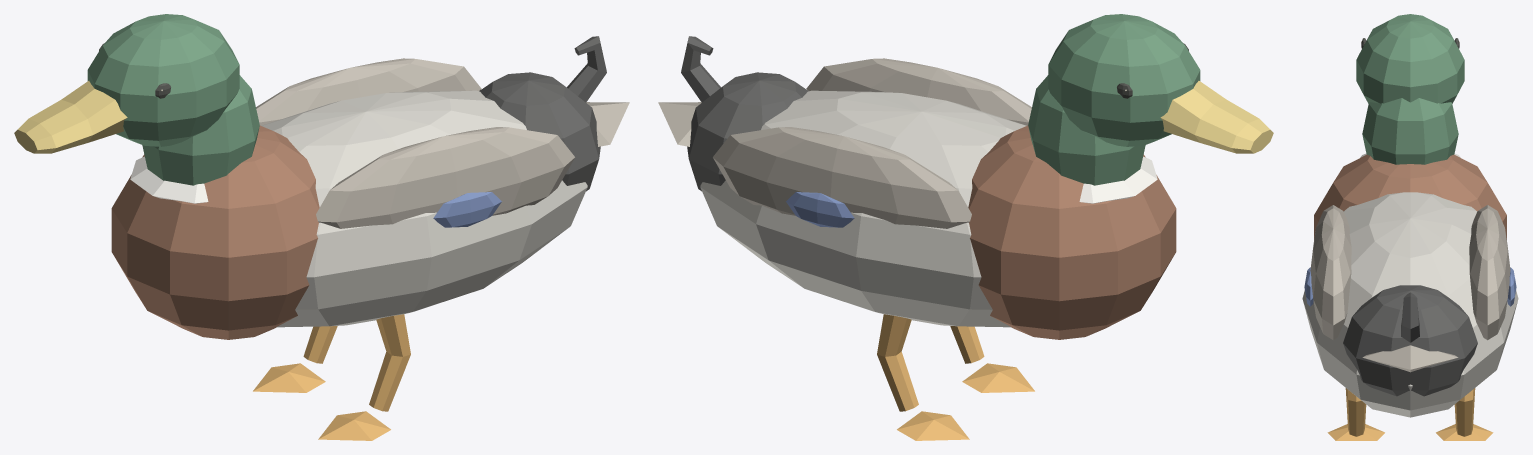
Rendered from duck.glb.
The picture shows the model from 3 angles, left to right: view 1: azimuth 30°, elevation 25°; view 2: azimuth 150°, elevation 25°; view 3: azimuth 270°, elevation 25°; orthographic projection. The views are drawn at different scales.
Parts seen in each view (by area): view 1: Hull, Breast, Folded_Wing_L, Head, Folded_Wing_R, Rump, Neck, Bill, Leg_L, Speculum_L, Collar, Web_L (+4 smaller); view 2: Hull, Breast, Folded_Wing_R, Head, Folded_Wing_L, Rump, Neck, Bill, Leg_R, Speculum_R, Collar, Web_L (+4 smaller); view 3: Hull, Rump, Head, Breast, Neck, Folded_Wing_L, Folded_Wing_R, Tail_Fan, Tail_Curl, Leg_L, Leg_R, Web_L (+3 smaller).
Boxes of the visible parts, left/top/right/bottom form: Hull: left=261, top=90, right=587, bottom=327; Breast: left=111, top=125, right=319, bottom=339; Folded_Wing_L: left=316, top=127, right=574, bottom=228; Head: left=87, top=14, right=239, bottom=146; Folded_Wing_R: left=256, top=58, right=481, bottom=125; Rump: left=479, top=72, right=600, bottom=191; Neck: left=142, top=75, right=259, bottom=185; Bill: left=14, top=81, right=127, bottom=153; Leg_L: left=369, top=314, right=410, bottom=411; Speculum_L: left=433, top=192, right=501, bottom=227; Collar: left=130, top=156, right=208, bottom=203; Web_L: left=318, top=411, right=390, bottom=440; Hull: left=700, top=90, right=1026, bottom=327; Breast: left=968, top=125, right=1176, bottom=339; Folded_Wing_R: left=713, top=127, right=971, bottom=228; Head: left=1048, top=14, right=1200, bottom=146; Folded_Wing_L: left=806, top=58, right=1031, bottom=125; Rump: left=687, top=72, right=808, bottom=191; Neck: left=1028, top=75, right=1145, bottom=185; Bill: left=1160, top=81, right=1273, bottom=153; Leg_R: left=877, top=314, right=918, bottom=411; Speculum_R: left=786, top=192, right=854, bottom=227; Collar: left=1079, top=156, right=1157, bottom=203; Web_L: left=962, top=363, right=1034, bottom=392; Hull: left=1302, top=192, right=1518, bottom=417; Rump: left=1343, top=285, right=1477, bottom=396; Head: left=1356, top=14, right=1464, bottom=103; Breast: left=1314, top=154, right=1506, bottom=239; Neck: left=1362, top=98, right=1458, bottom=164; Folded_Wing_L: left=1310, top=205, right=1351, bottom=340; Folded_Wing_R: left=1469, top=205, right=1510, bottom=340; Tail_Fan: left=1362, top=345, right=1458, bottom=372; Tail_Curl: left=1401, top=292, right=1419, bottom=342; Leg_L: left=1345, top=388, right=1366, bottom=436; Leg_R: left=1454, top=388, right=1475, bottom=436; Web_L: left=1327, top=424, right=1384, bottom=440.
Bounding box in the file's own units: 0.298 × 0.2028 × 0.112.
